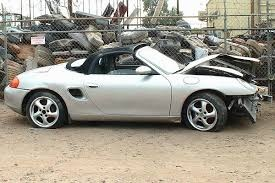Smashed: (174, 53, 263, 129)
